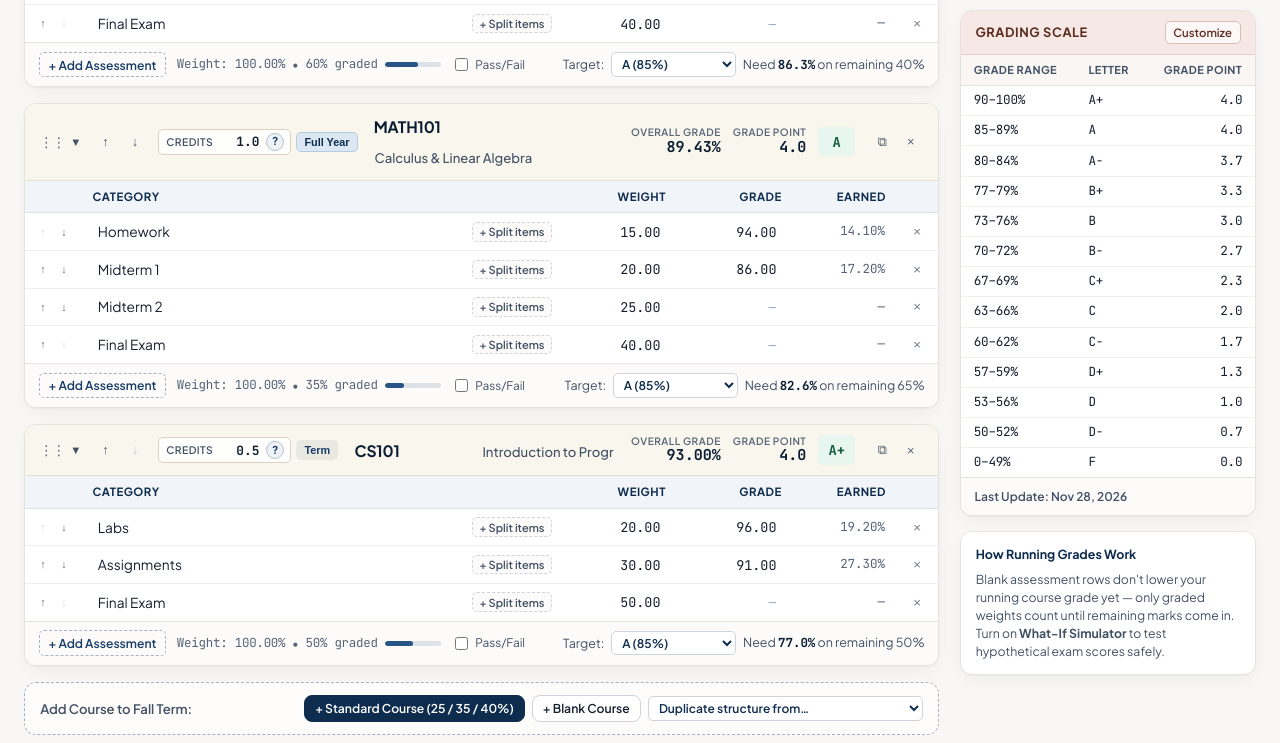
Grade Tracker React Application (M1 + M1.1 + Firebase Cloud Sync) › clears stale Undo/Redo history and What-If sandbox when a remote cloud pull arrives (#11)
The width and height of the screenshot is (1280, 743).
Later steps or results of the test are not shown.
(page scrolled)
# Create local Undo history + enter What-If Simulator
Click the button "+ Blank Course" at point(586, 709), box [532,695,641,722]
(page scrolled)
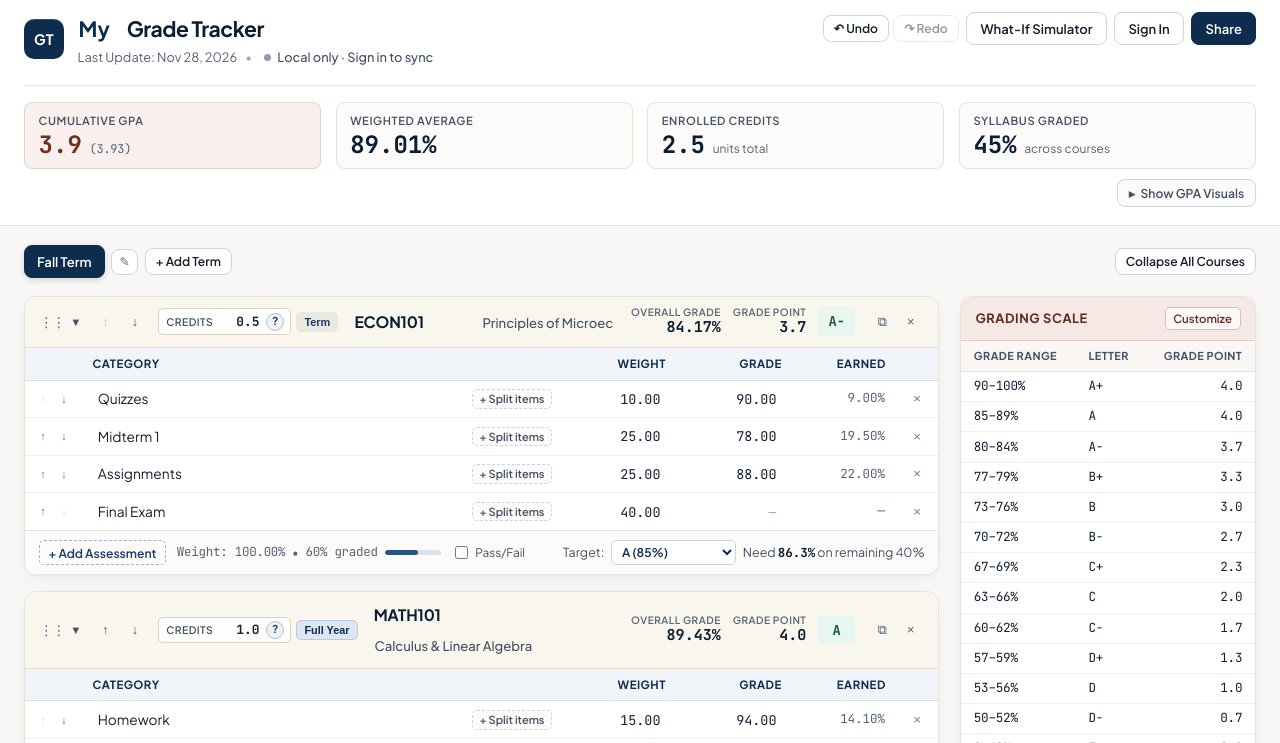
Now the button "↶ Undo" is enabled, box [823,15,889,42]
Click the button "What-If Simulator" at point(1036, 29), box [966,12,1107,46]
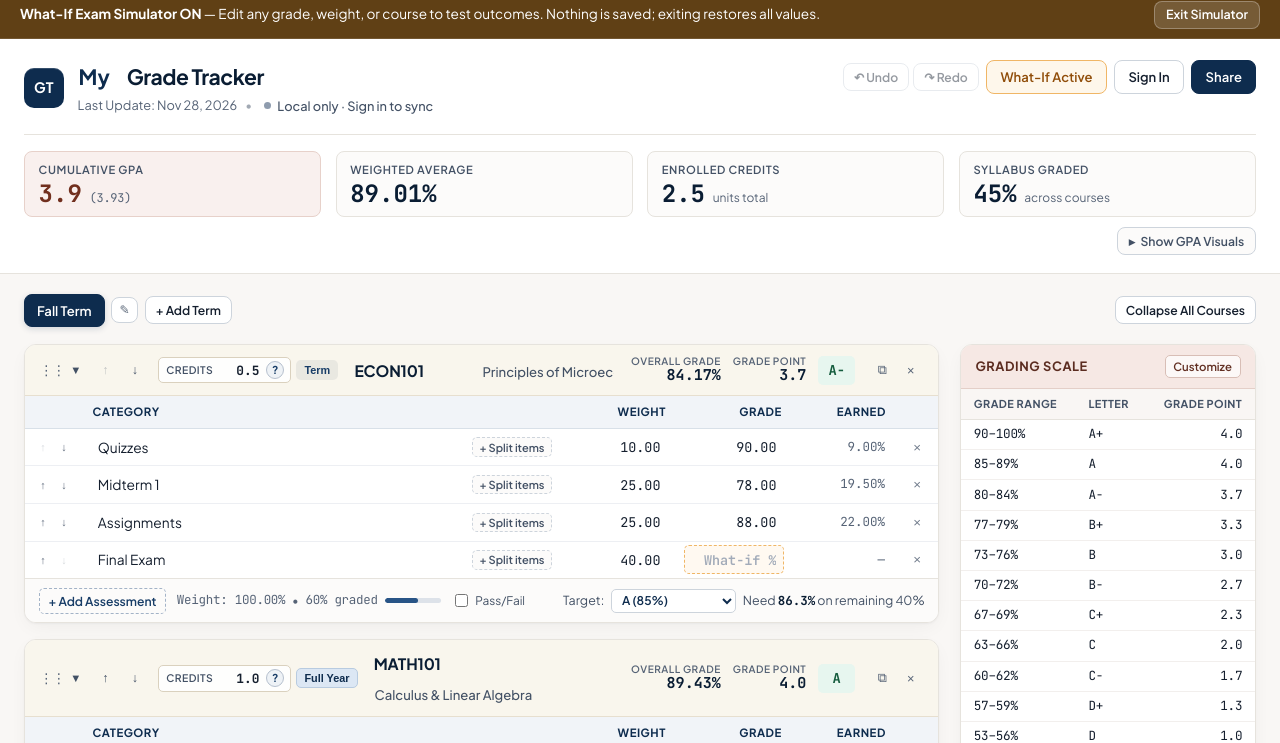
Now the text "What-If Exam Simulator ON" is shown, box [20,6,202,22]
